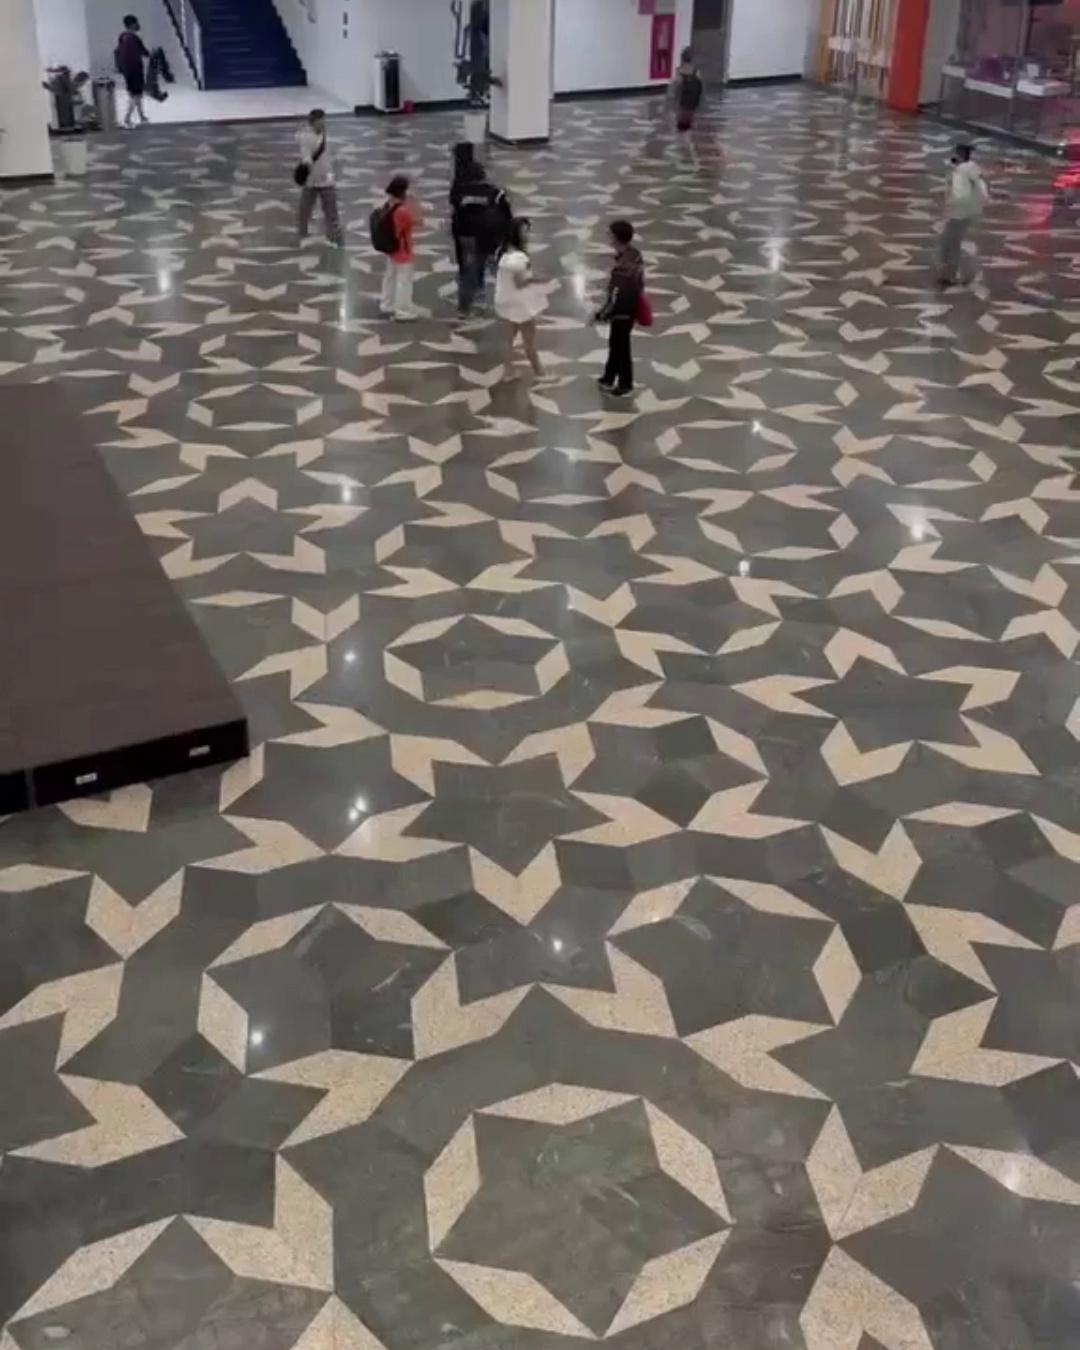your_class: (593, 219, 652, 400), (493, 216, 555, 384), (454, 163, 512, 322), (369, 175, 424, 322), (937, 143, 987, 288), (293, 107, 344, 244), (446, 142, 486, 285), (112, 14, 159, 129), (669, 46, 705, 165)
